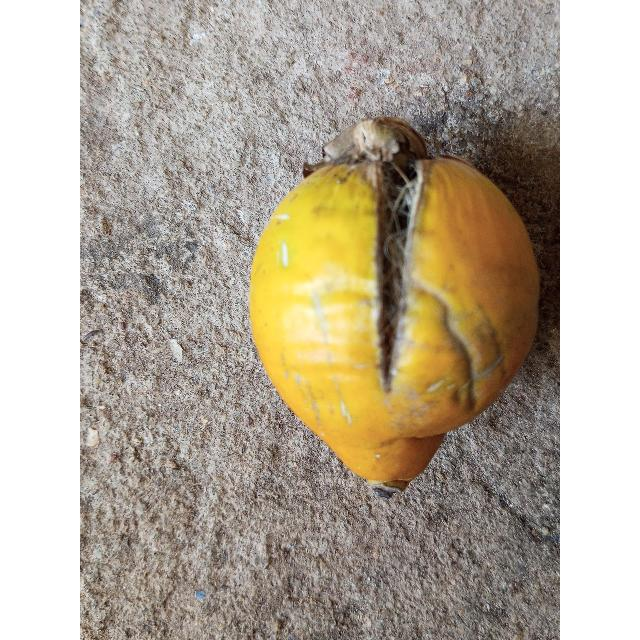damaged: (248, 118, 540, 491)
